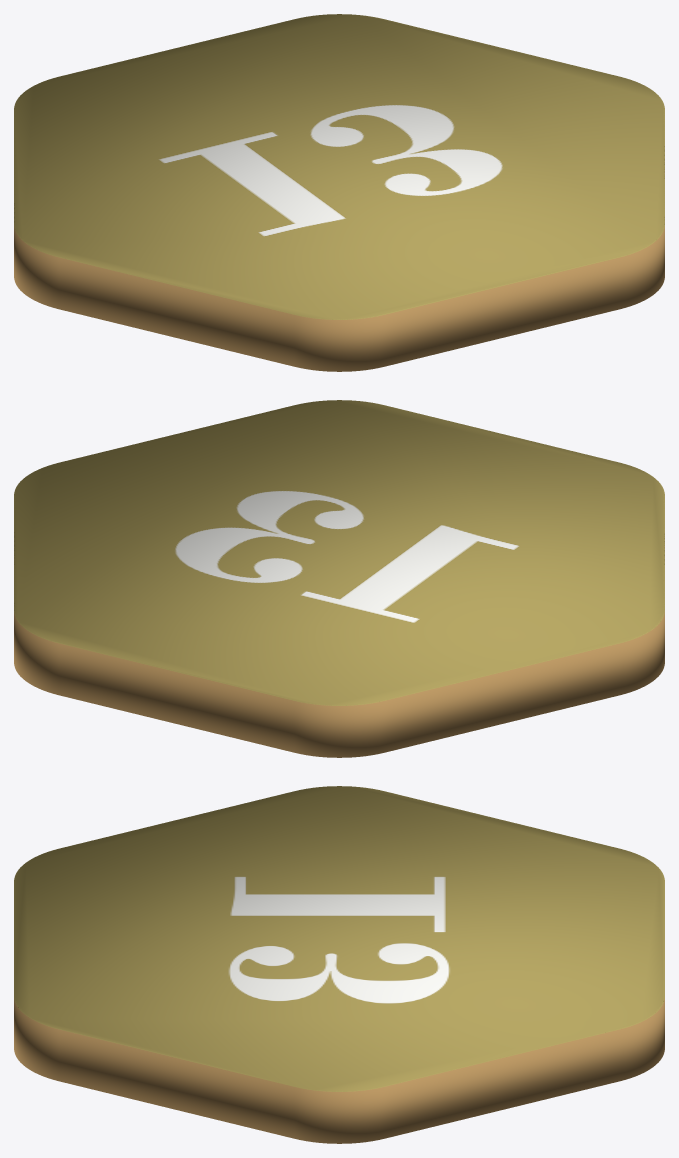
Rendered from hex_13.glb.
3 views of the same model, one above another, from view 1: azimuth 30°, elevation 25°; view 2: azimuth 150°, elevation 25°; view 3: azimuth 270°, elevation 25° (orthographic).
Parts seen in each view (by area): view 1: hex_13; view 2: hex_13; view 3: hex_13.
Part boxes in pixels (x1,y1,x2,y2): hex_13: (14, 14, 664, 371); hex_13: (14, 400, 664, 757); hex_13: (14, 786, 664, 1143).
Bounding box in the file's own units: 0.0304 × 0.0024 × 0.0273.
Materials: 2 (1 with a texture image).
